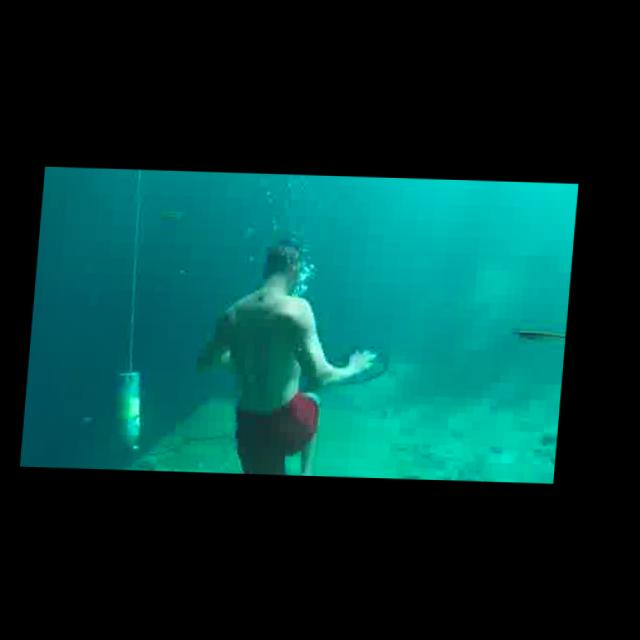human: (191, 233, 395, 476)
